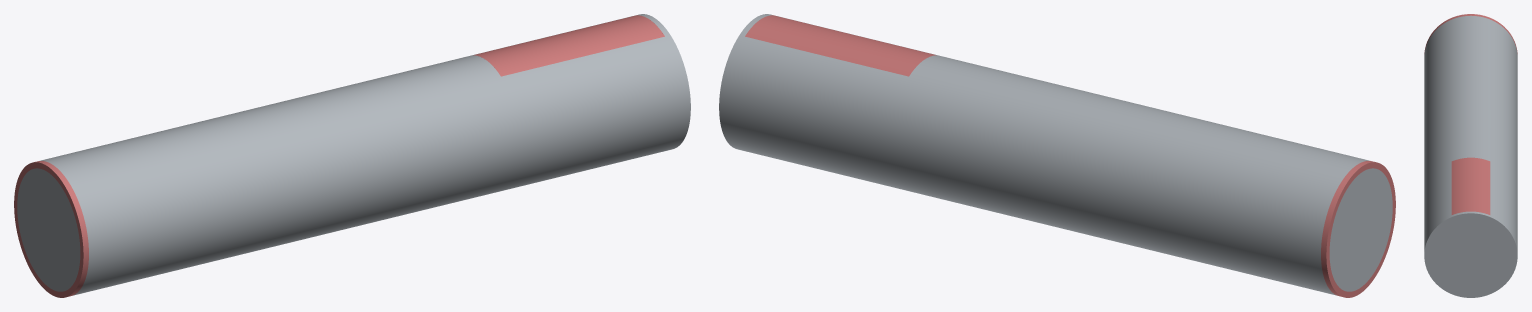
File: step_13.glb
3 views of the same model, side by side, from view 1: azimuth 30°, elevation 25°; view 2: azimuth 150°, elevation 25°; view 3: azimuth 270°, elevation 25° (orthographic). The views are drawn at different scales.
Parts seen in each view (by area): view 1: part__input shaft, removed__input shaft; view 2: part__input shaft, removed__input shaft; view 3: part__input shaft, removed__input shaft.
Boxes of the visible parts, x1,y1,x2,y2 form: part__input shaft: (17, 14, 690, 295); removed__input shaft: (14, 15, 664, 297); part__input shaft: (719, 14, 1392, 295); removed__input shaft: (745, 15, 1395, 297); part__input shaft: (1424, 15, 1517, 297); removed__input shaft: (1424, 14, 1517, 214).
Size of the model in its own units: 111 by 21.99 by 21.99.
